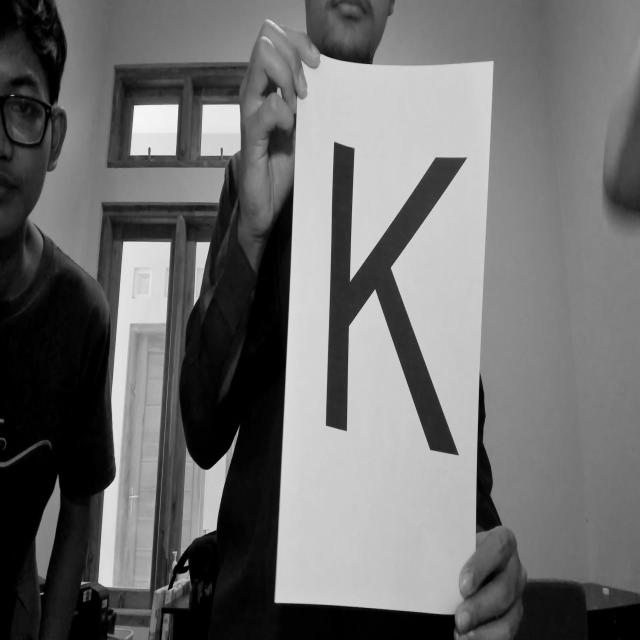k: (314, 120, 471, 467)
